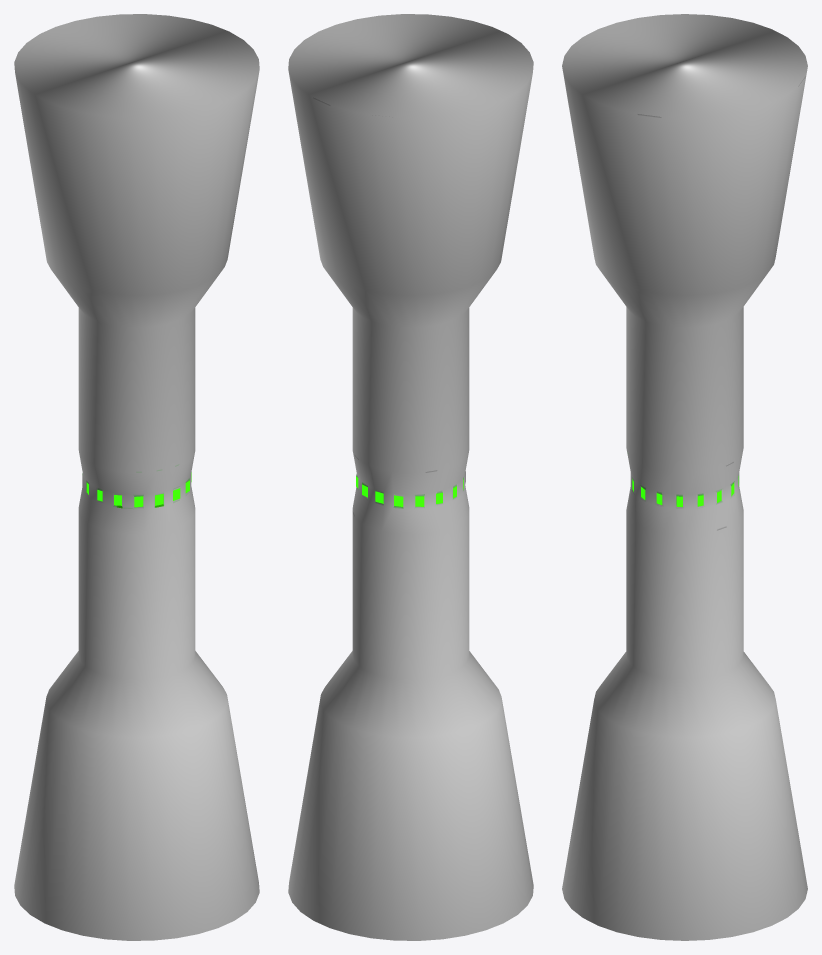
File: kolumna2.glb
The picture shows the model from 3 angles, left to right: view 1: azimuth 30°, elevation 25°; view 2: azimuth 150°, elevation 25°; view 3: azimuth 270°, elevation 25°; orthographic projection.
Visible parts, largest first — view 1: Cylinder; view 2: Cylinder; view 3: Cylinder.
Boxes of the visible parts, <box> form: Cylinder: <box>14,14,259,940</box>; Cylinder: <box>288,14,533,940</box>; Cylinder: <box>562,14,807,940</box>.
Bounding box in the file's own units: 4.2 × 15.5 × 4.2.
2 materials, 1 textured.
